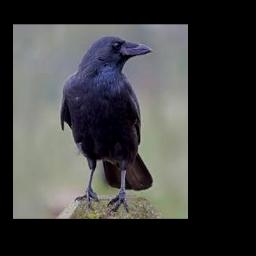Crow: (61, 36, 154, 214)
